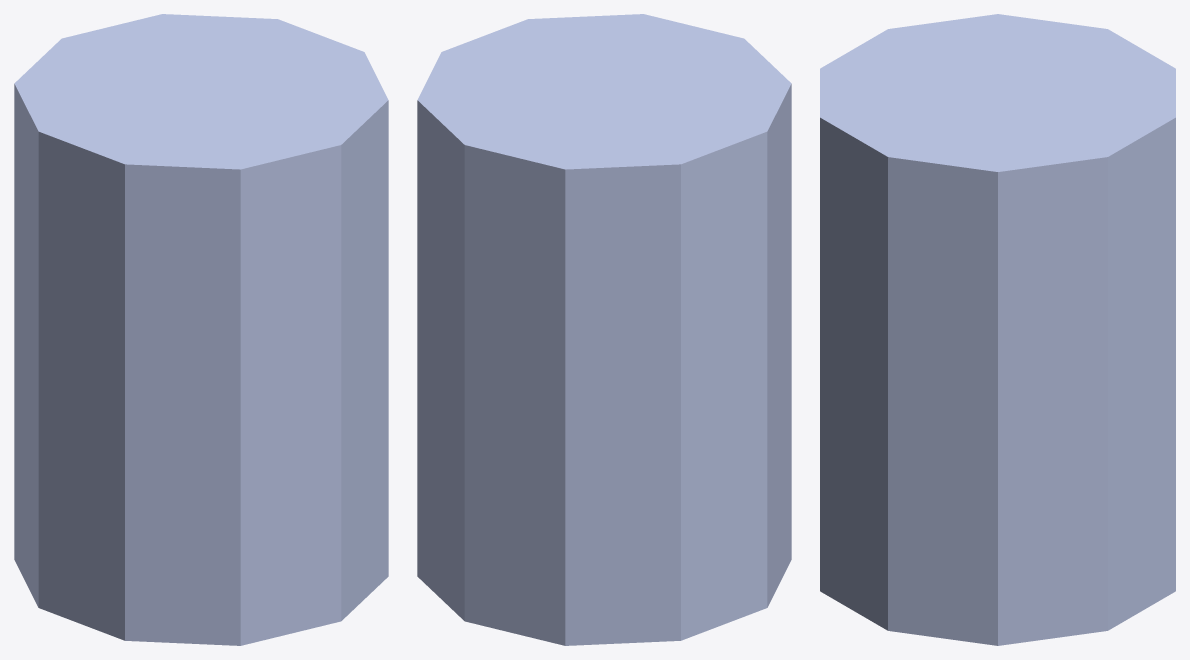
Rendered from Pin.fbx.
3 renders of one model, left to right at view 1: azimuth 30°, elevation 25°; view 2: azimuth 150°, elevation 25°; view 3: azimuth 270°, elevation 25°, orthographic.
Parts seen in each view (by area): view 1: polySurface63; view 2: polySurface63; view 3: polySurface63.
Boxes of the visible parts, x1,y1,x2,y2 form: polySurface63: (14,14,388,645); polySurface63: (417,14,791,645); polySurface63: (820,14,1175,645).
Bounding box in the file's own units: 0.1315 × 0.1837 × 0.125.
